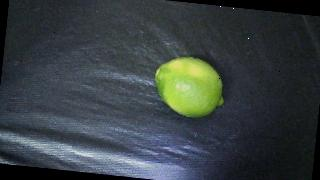LOCAL: (150, 54, 227, 121)
